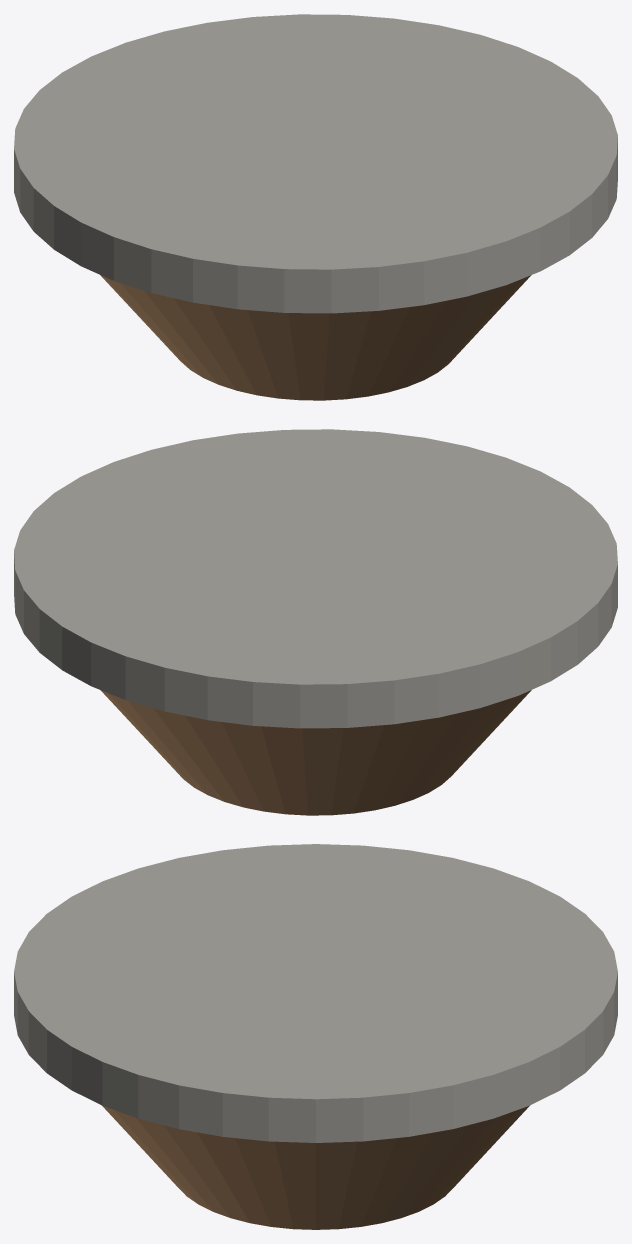
File: ceiling-dome.glb
3 renders of one model, top to bottom at view 1: azimuth 30°, elevation 25°; view 2: azimuth 150°, elevation 25°; view 3: azimuth 270°, elevation 25°, orthographic.
Visible parts, largest first — view 1: brushed, shade; view 2: brushed, shade; view 3: brushed, shade.
Boxes of the visible parts, box(x1,y1,x2,y2) form: brushed: box(14, 14, 617, 313); shade: box(100, 275, 531, 400); brushed: box(14, 429, 617, 728); shade: box(100, 690, 531, 815); brushed: box(14, 844, 617, 1142); shade: box(102, 1105, 529, 1229).
Size of the model in its own units: 0.3 by 0.118 by 0.3.
